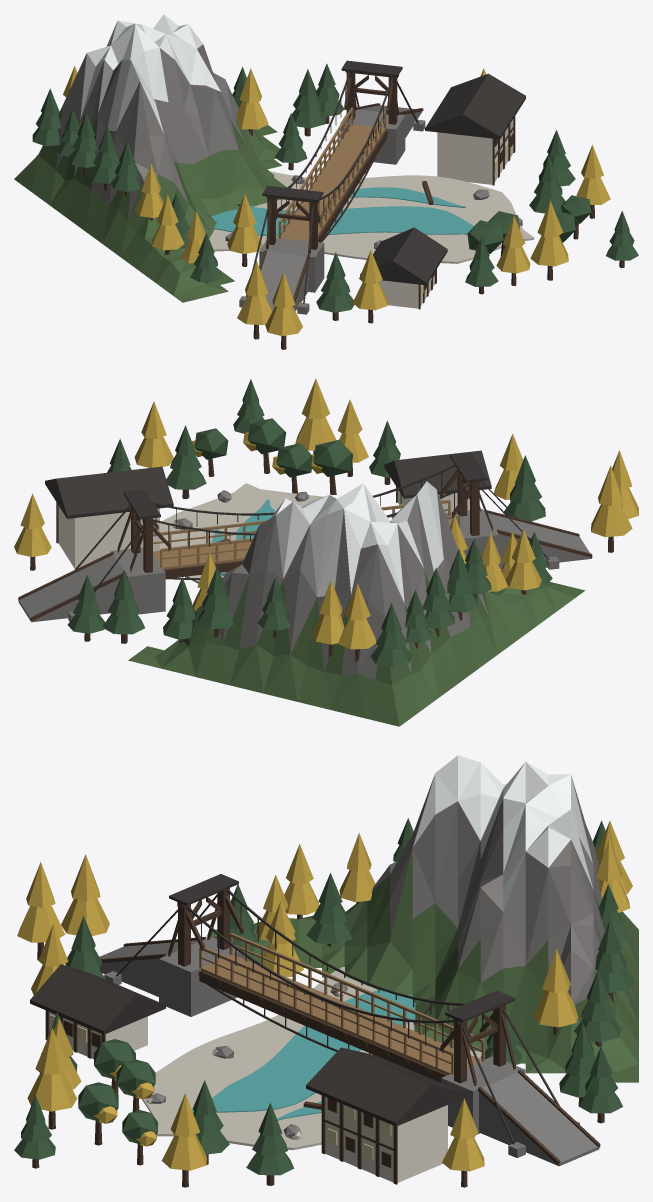
Rendered from kappa-bashi.glb.
3 views of the same model, one above another, from view 1: azimuth 30°, elevation 25°; view 2: azimuth 150°, elevation 25°; view 3: azimuth 270°, elevation 25° (orthographic). The views are drawn at different scales.
Visible parts, largest first — view 1: kappa_rock, kappa_forest, kappa_pine, kappa_larch, kappa_roof, kappa_snow, kappa_gravel, kappa_darkwood, kappa_water, kappa_wood, kappa_plaster; view 2: kappa_rock, kappa_forest, kappa_pine, kappa_larch, kappa_roof, kappa_snow, kappa_darkwood, kappa_gravel, kappa_plaster, kappa_wood, kappa_water; view 3: kappa_rock, kappa_forest, kappa_larch, kappa_pine, kappa_roof, kappa_darkwood, kappa_snow, kappa_gravel, kappa_wood, kappa_water, kappa_plaster.
Boxes of the visible parts, left/top/right/bottom form: kappa_rock: left=56, top=44, right=522, bottom=324; kappa_forest: left=14, top=106, right=286, bottom=302; kappa_pine: left=32, top=63, right=638, bottom=312; kappa_larch: left=63, top=66, right=610, bottom=336; kappa_roof: left=246, top=60, right=525, bottom=303; kappa_snow: left=80, top=14, right=220, bottom=133; kappa_gravel: left=209, top=171, right=534, bottom=263; kappa_darkwood: left=83, top=71, right=624, bottom=349; kappa_water: left=211, top=187, right=473, bottom=236; kappa_wood: left=278, top=107, right=385, bottom=240; kappa_plaster: left=379, top=119, right=513, bottom=308; kappa_rock: left=18, top=490, right=591, bottom=679; kappa_forest: left=128, top=570, right=585, bottom=726; kappa_pine: left=67, top=379, right=552, bottom=666; kappa_larch: left=14, top=378, right=638, bottom=649; kappa_roof: left=45, top=450, right=549, bottom=592; kappa_snow: left=270, top=481, right=443, bottom=602; kappa_darkwood: left=18, top=450, right=613, bottom=662; kappa_gravel: left=160, top=483, right=323, bottom=583; kappa_plaster: left=58, top=490, right=469, bottom=568; kappa_wood: left=153, top=499, right=460, bottom=569; kappa_water: left=211, top=499, right=275, bottom=575; kappa_rock: left=99, top=776, right=615, bottom=1166; kappa_forest: left=210, top=849, right=638, bottom=1082; kappa_larch: left=17, top=821, right=632, bottom=1171; kappa_pine: left=14, top=818, right=633, bottom=1175; kappa_roof: left=30, top=874, right=559, bottom=1144; kappa_darkwood: left=32, top=888, right=613, bottom=1187; kappa_snow: left=413, top=755, right=592, bottom=910; kappa_gravel: left=142, top=967, right=481, bottom=1150; kappa_wood: left=199, top=933, right=485, bottom=1074; kappa_water: left=192, top=990, right=415, bottom=1120; kappa_plaster: left=49, top=1012, right=447, bottom=1182.
Bounding box in the file's own units: 21.67 × 8.74 × 22.09.
